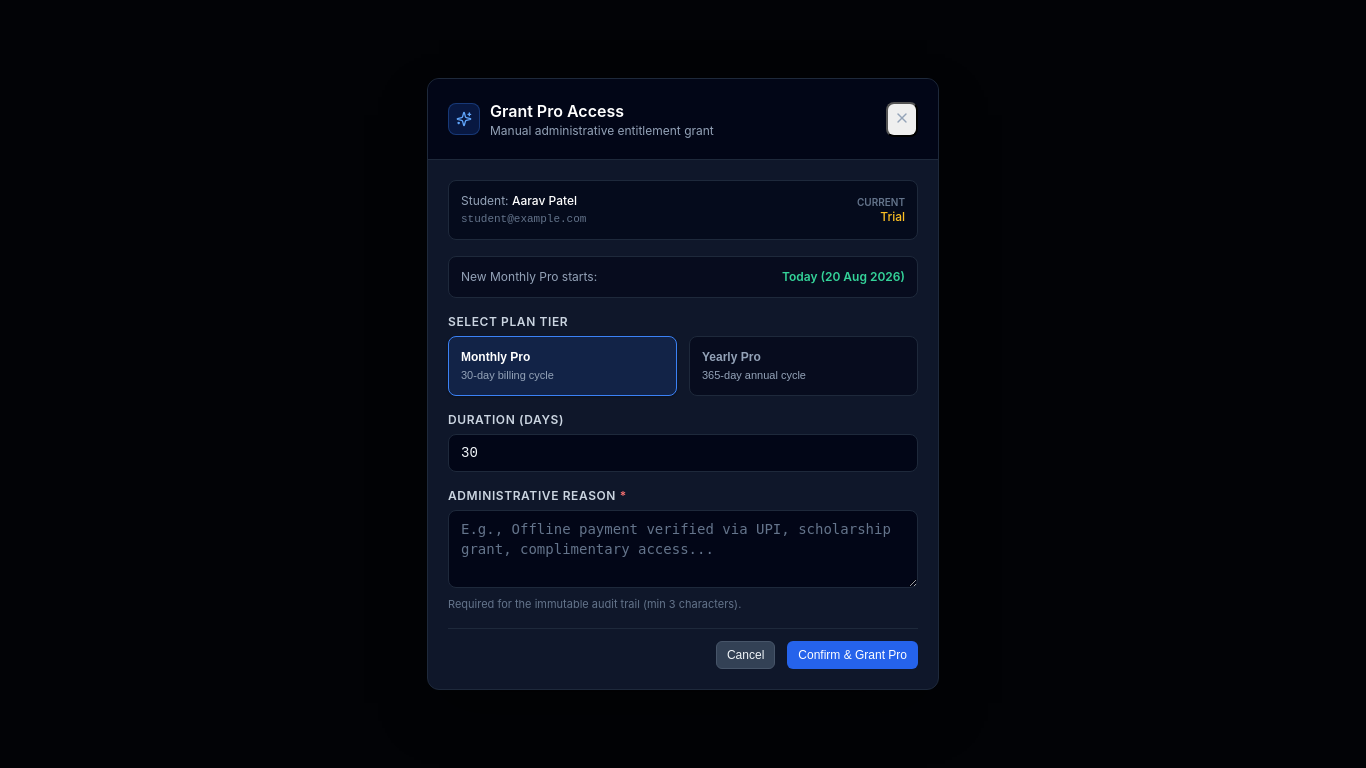
Test: PHASE 6 — Subscription Mutation Modals & Workflows Tests › GrantSubscriptionModal › 2. handles 403 Forbidden error safely
Replace the text in the text box labelled "Administrative Reason *" with "Granting test access" at {"x": 683, "y": 549}, box [448,510,918,588]
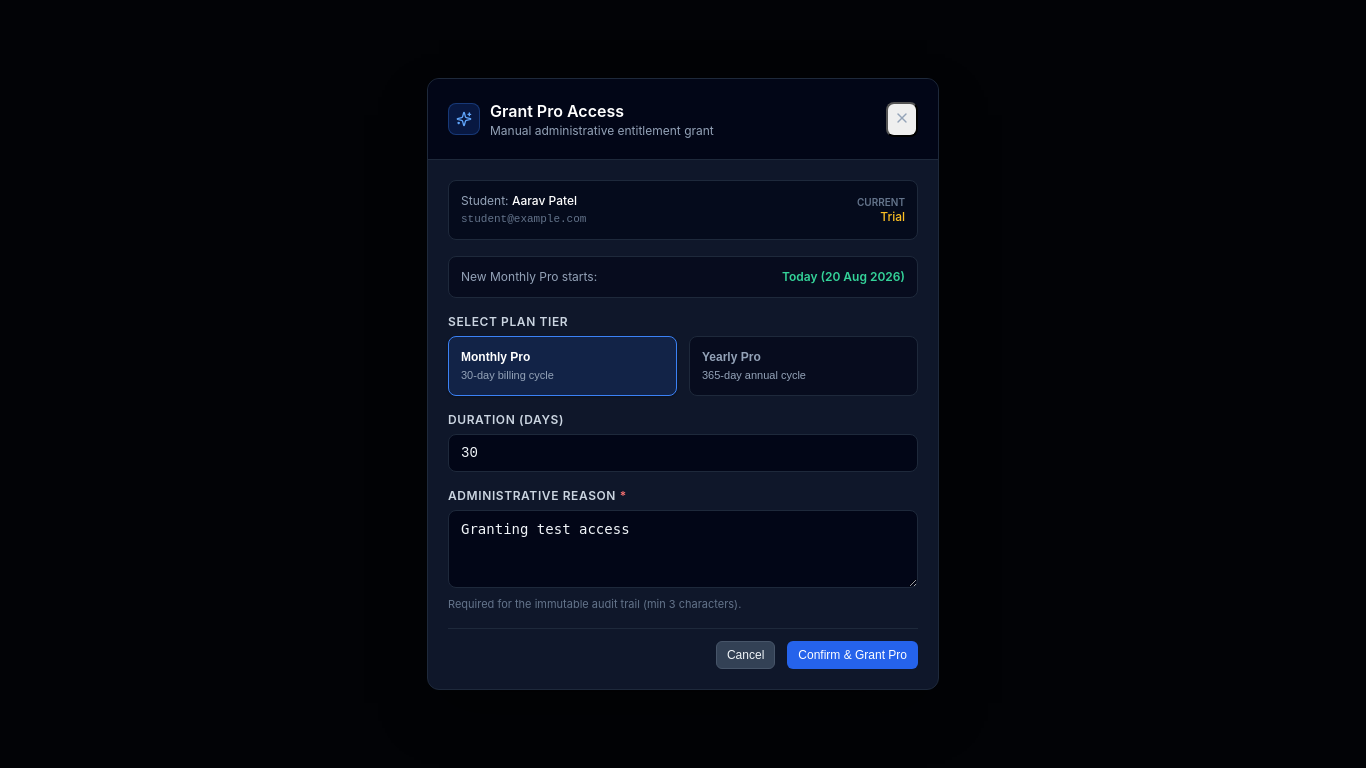
Click the button "Confirm & Grant Pro" at {"x": 853, "y": 655}, box [787,641,918,669]
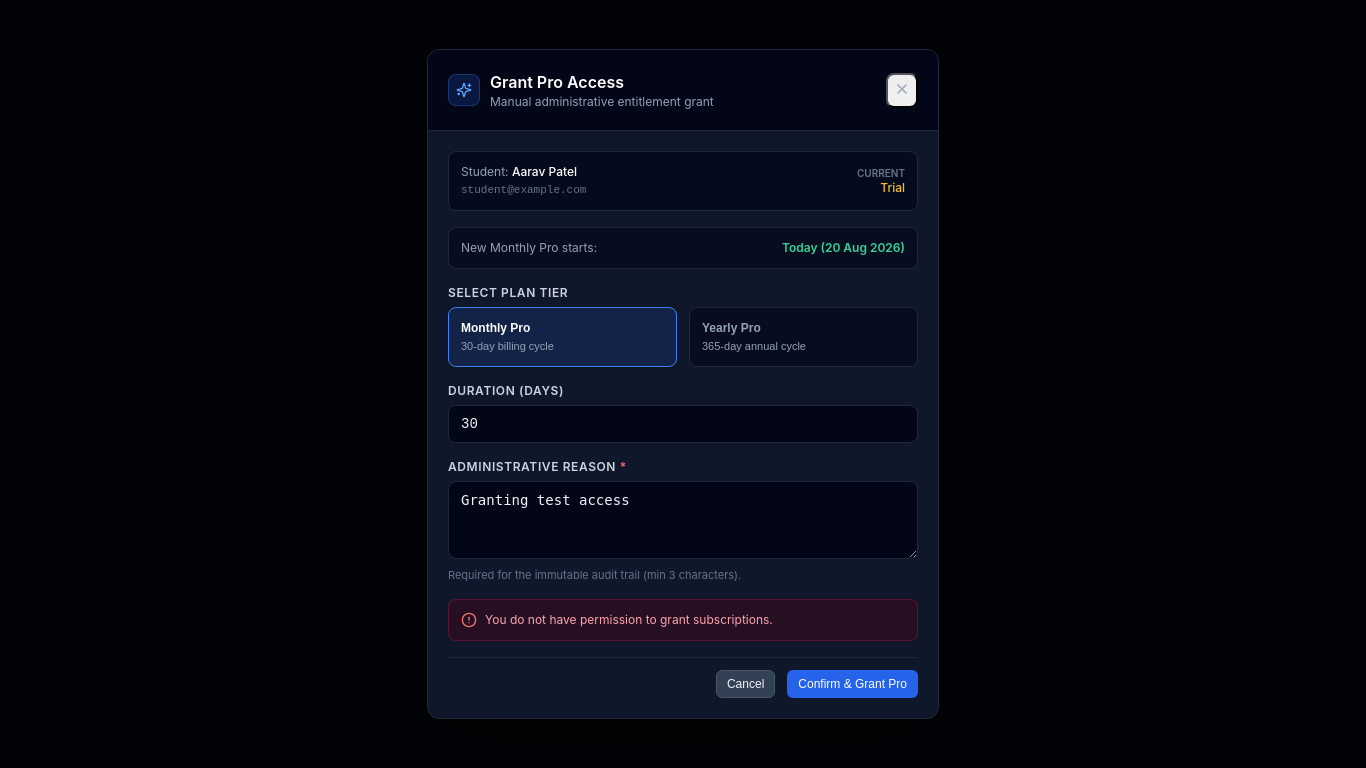
Expected: the text "You do not have permission to grant subscriptions." is shown, [485,612,773,628]
